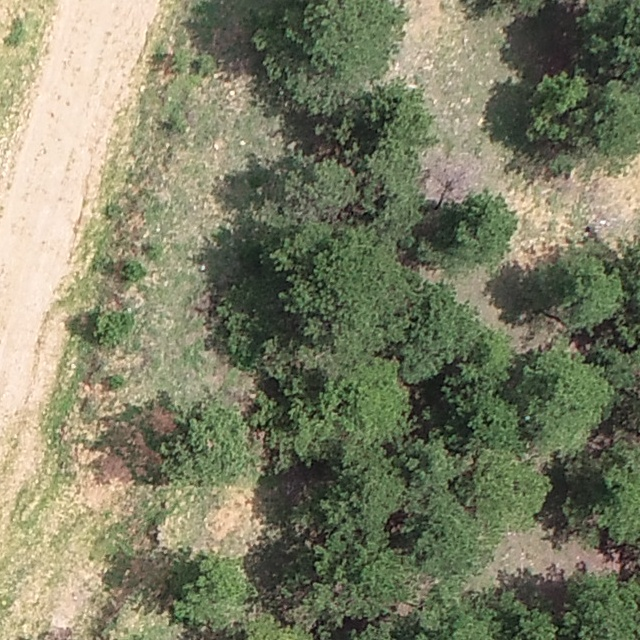unhealthy: (418, 147, 485, 207)
